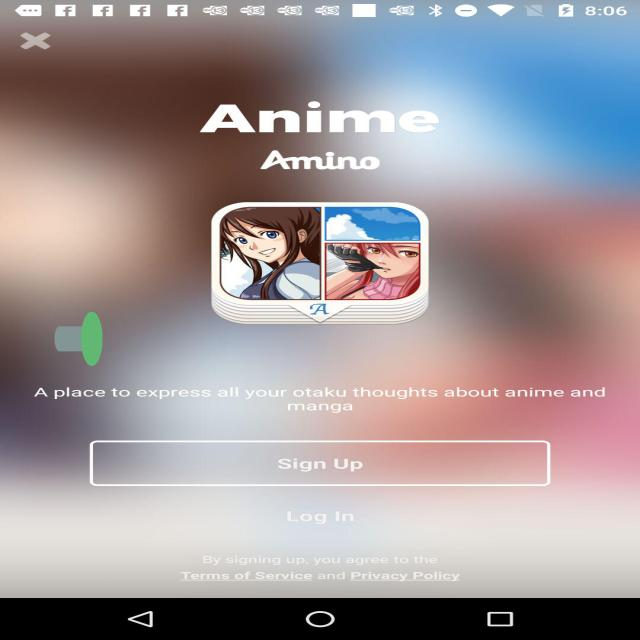social proof: (54, 278, 102, 399)
